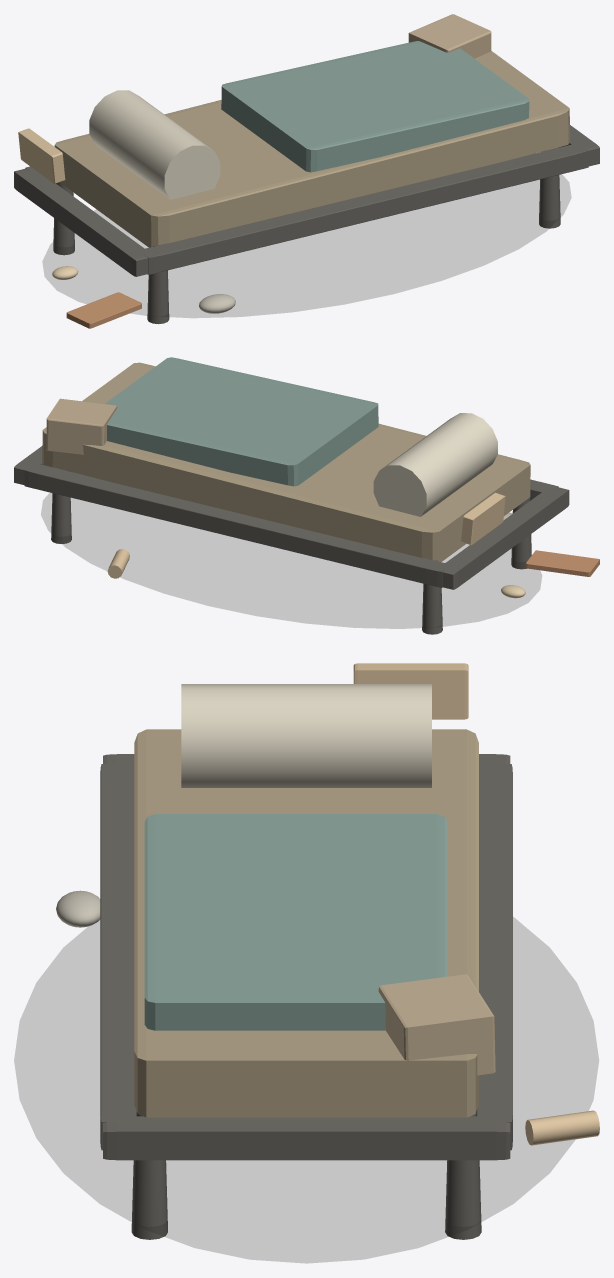
File: cot_bed.glb
3 views of the same model, one above another, from view 1: azimuth 30°, elevation 25°; view 2: azimuth 150°, elevation 25°; view 3: azimuth 270°, elevation 25° (orthographic). The views are drawn at different scales.
Parts seen in each view (by area): view 1: painted_contact_shadow, stretched_canvas_mattress, folded_wasteland_blanket, thin_scrap_frame_right, rolled_pillow_at_head, thin_scrap_frame_head, small_personal_bundle, wired_nameplate_clip, loose_scrap_flake_0, short_bed_leg_3, short_bed_leg_1, short_bed_leg_0 (+2 smaller); view 2: painted_contact_shadow, stretched_canvas_mattress, folded_wasteland_blanket, thin_scrap_frame_left, rolled_pillow_at_head, thin_scrap_frame_head, small_personal_bundle, wired_nameplate_clip, loose_scrap_flake_0, short_bed_leg_2, short_bed_leg_0, short_bed_leg_1 (+2 smaller); view 3: folded_wasteland_blanket, painted_contact_shadow, stretched_canvas_mattress, rolled_pillow_at_head, thin_scrap_frame_foot, thin_scrap_frame_right, thin_scrap_frame_left, small_personal_bundle, wired_nameplate_clip, short_bed_leg_3, short_bed_leg_2, discarded_bolt_detail_2 (+2 smaller).
Part boxes in pixels (x1,y1,x2,y2): painted_contact_shadow: (42,174,571,317); stretched_canvas_mattress: (54,51,569,247); folded_wasteland_blanket: (221,41,529,172); thin_scrap_frame_right: (138,144,588,274); rolled_pillow_at_head: (89,90,220,199); thin_scrap_frame_head: (14,168,149,276); small_personal_bundle: (408,14,491,58); wired_nameplate_clip: (18,128,65,183); loose_scrap_flake_0: (66,292,141,328); short_bed_leg_3: (539,147,560,228); short_bed_leg_1: (147,245,169,324); short_bed_leg_0: (53,182,74,255); painted_contact_shadow: (41,493,541,628); stretched_canvas_mattress: (42,362,530,561); folded_wasteland_blanket: (105,357,378,486); thin_scrap_frame_left: (24,463,450,587); rolled_pillow_at_head: (373,413,497,516); thin_scrap_frame_head: (440,487,569,589); small_personal_bundle: (46,398,117,455); wired_nameplate_clip: (461,492,505,545); loose_scrap_flake_0: (526,550,599,576); short_bed_leg_2: (51,467,71,543); short_bed_leg_0: (422,560,442,634); short_bed_leg_1: (511,497,531,569); folded_wasteland_blanket: (144,814,447,1030); painted_contact_shadow: (14,917,598,1263); stretched_canvas_mattress: (134,729,478,1117); rolled_pillow_at_head: (181,684,431,787); thin_scrap_frame_foot: (103,1116,510,1160); thin_scrap_frame_right: (100,764,136,1150); thin_scrap_frame_left: (476,764,512,1150); small_personal_bundle: (378,974,495,1075); wired_nameplate_clip: (353,663,468,719); short_bed_leg_3: (131,1112,167,1239); short_bed_leg_2: (445,1112,481,1239); discarded_bolt_detail_2: (525,1110,599,1145).
Size of the model in its own units: 1.94 by 0.55 by 1.12.
